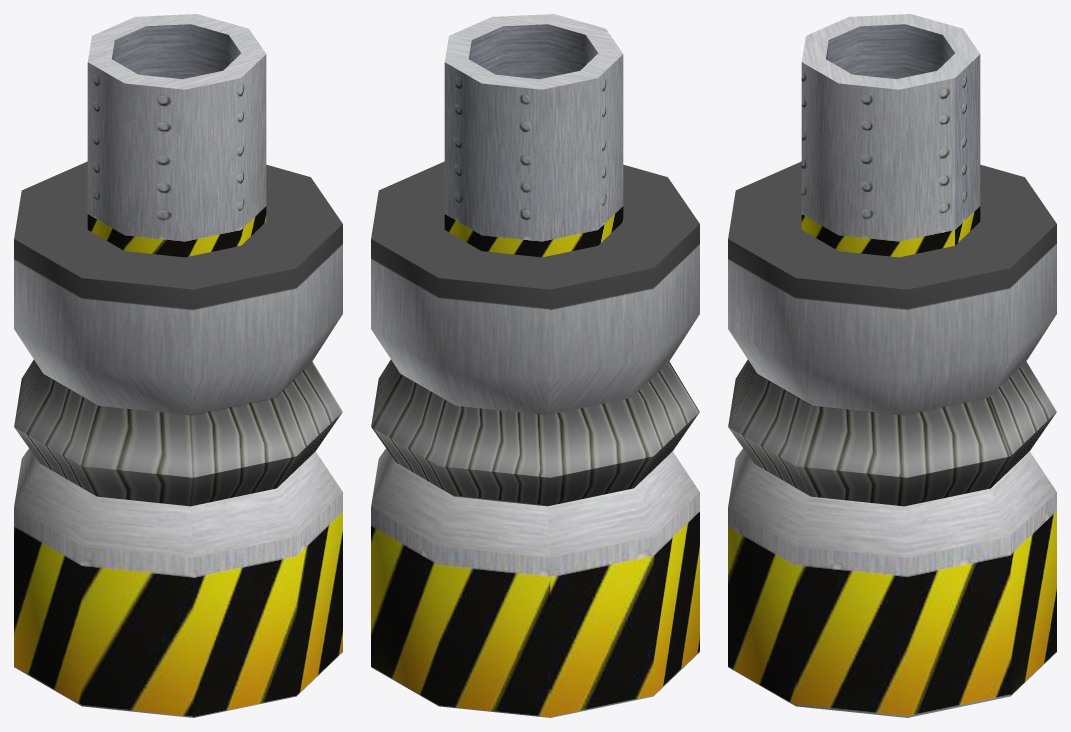
Rendered from RivitGunLvl1.FBX.
3 renders of one model, left to right at view 1: azimuth 30°, elevation 25°; view 2: azimuth 150°, elevation 25°; view 3: azimuth 270°, elevation 25°, orthographic.
Parts seen in each view (by area): view 1: RivitGunLvl1; view 2: RivitGunLvl1; view 3: RivitGunLvl1.
Boxes of the visible parts, left/top/right/bottom form: RivitGunLvl1: left=14, top=14, right=342, bottom=717; RivitGunLvl1: left=371, top=14, right=699, bottom=717; RivitGunLvl1: left=728, top=14, right=1056, bottom=717.
Size of the model in its own units: 14.25 by 28.4 by 14.2.
